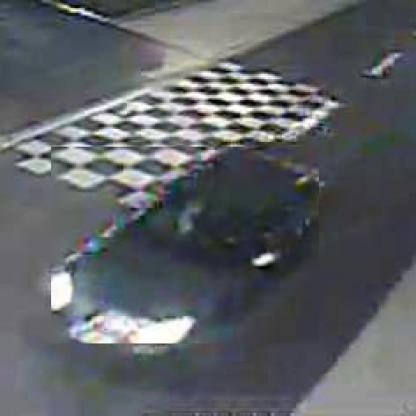car: (52, 148, 322, 346)
